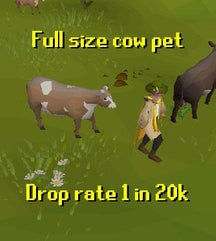rs_cow: (22, 72, 115, 142), (173, 39, 216, 113)
rs_player: (137, 78, 169, 165)
